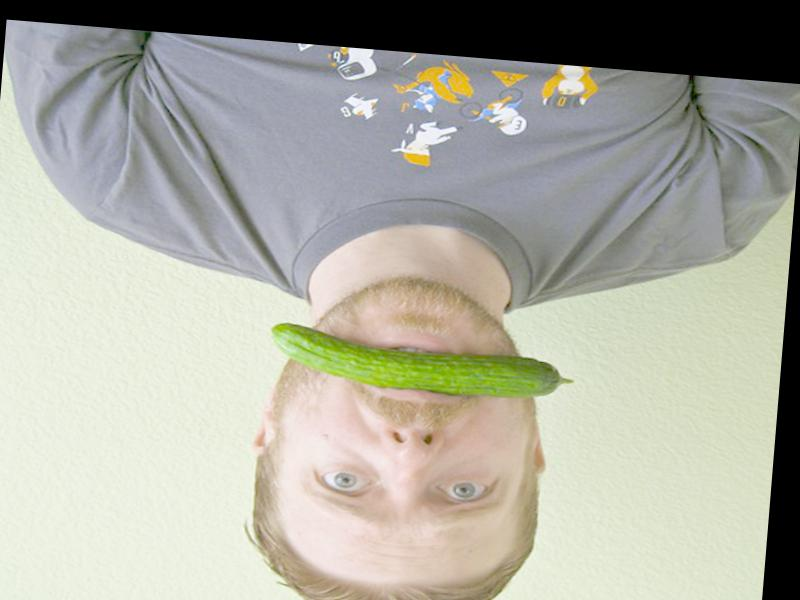Cucumber: (264, 320, 576, 403)
